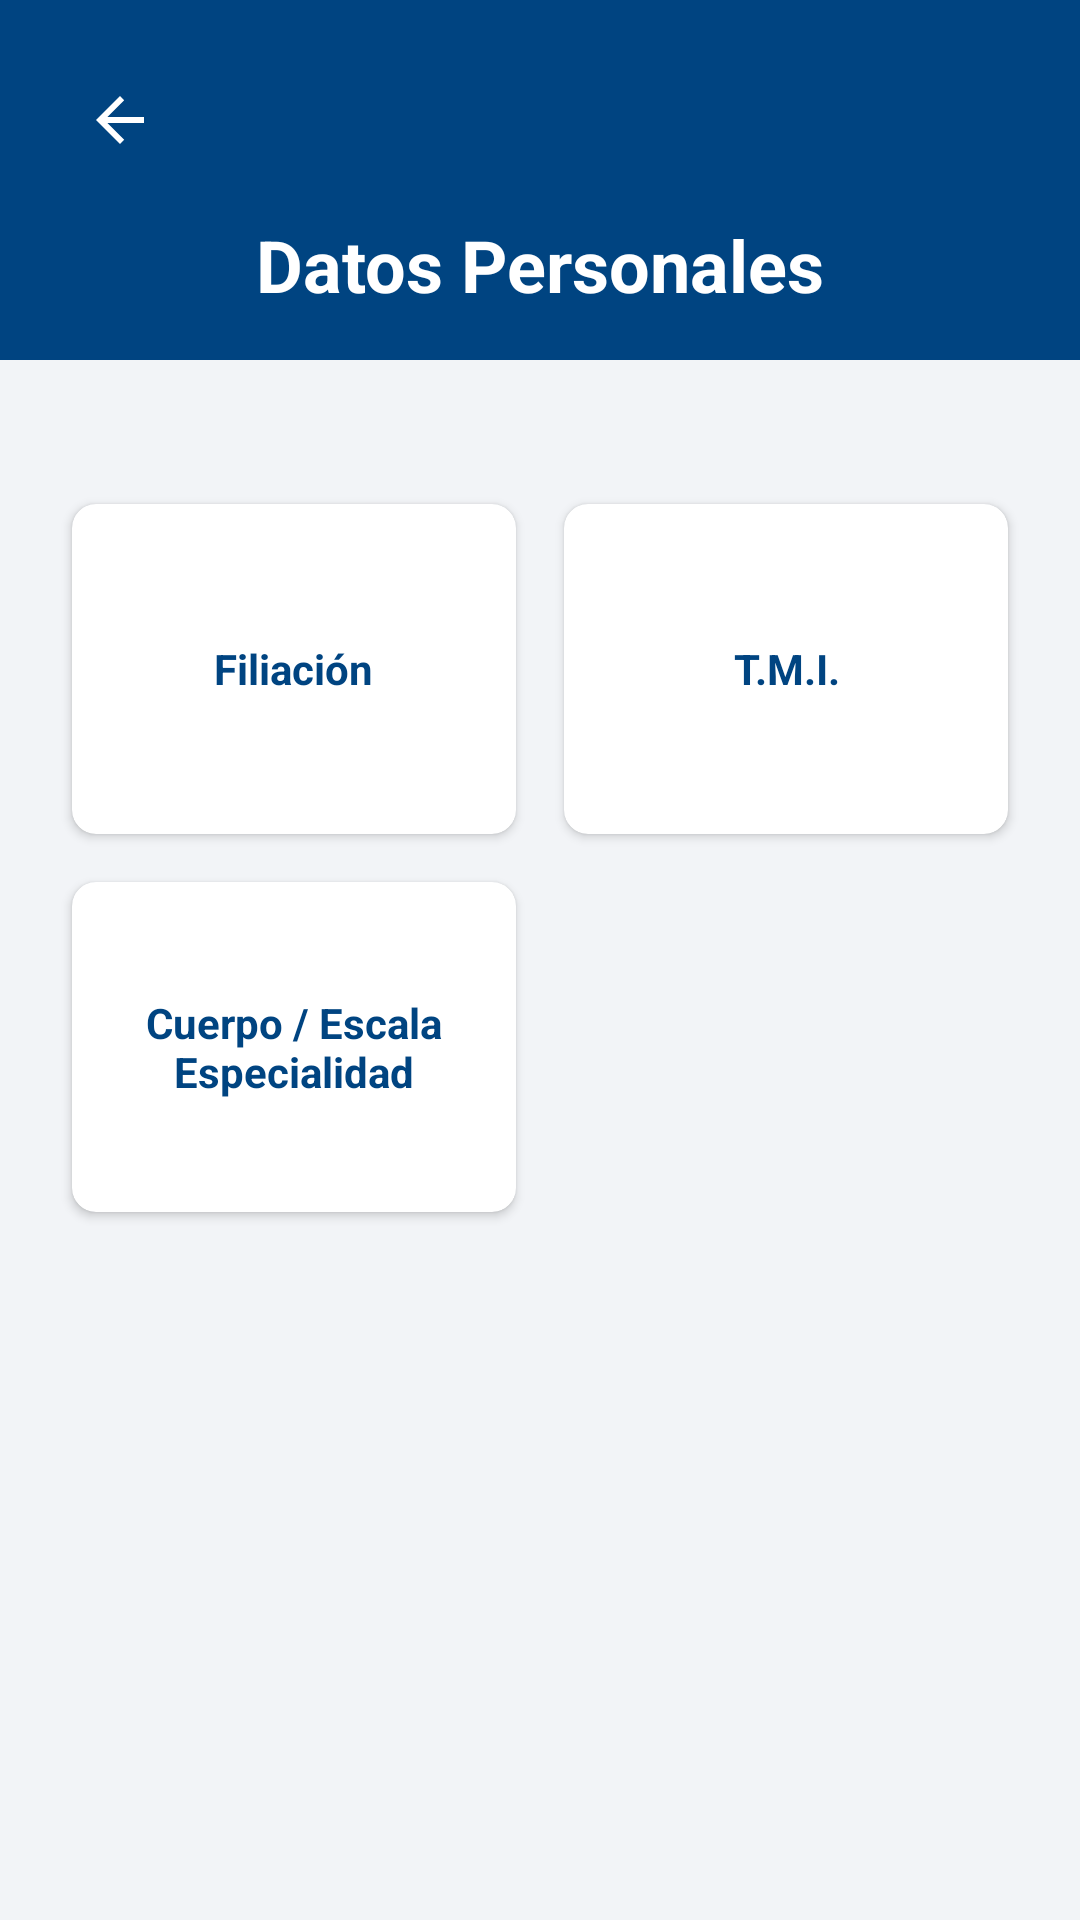

Icon click points for this 1080×1920 phone screenshot, format (x,y):
Volver: (120,120)
